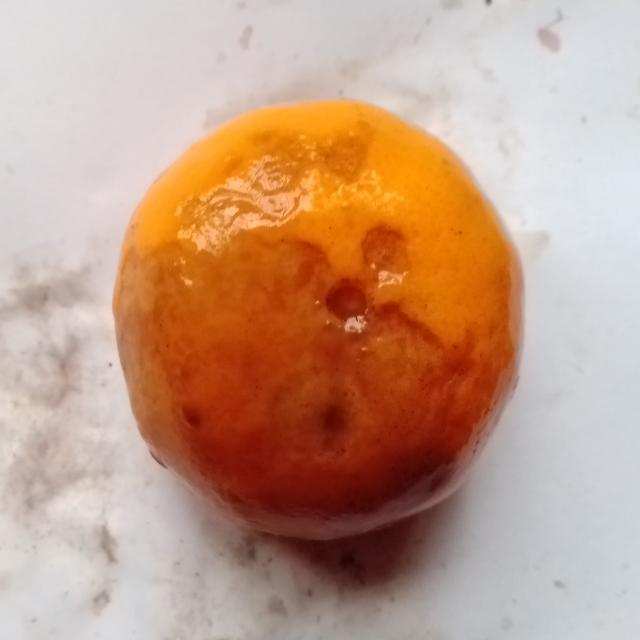orange: (114, 101, 521, 538)
